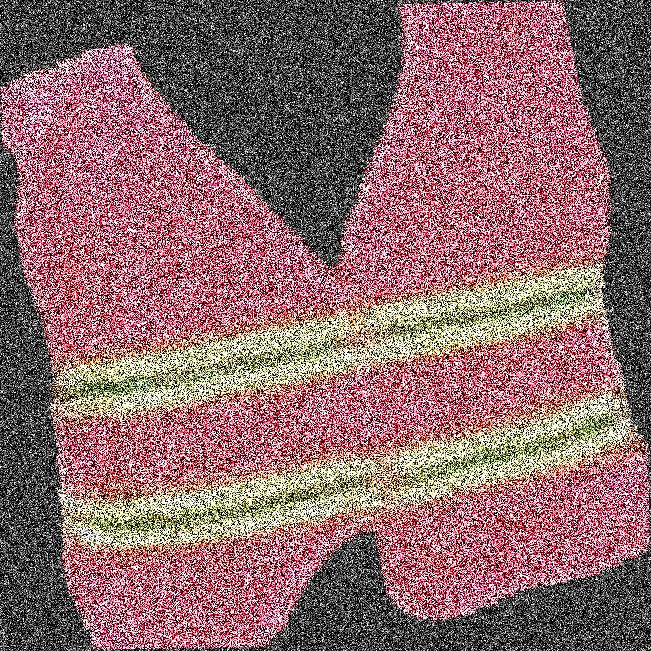Colete: (16, 0, 650, 650)
